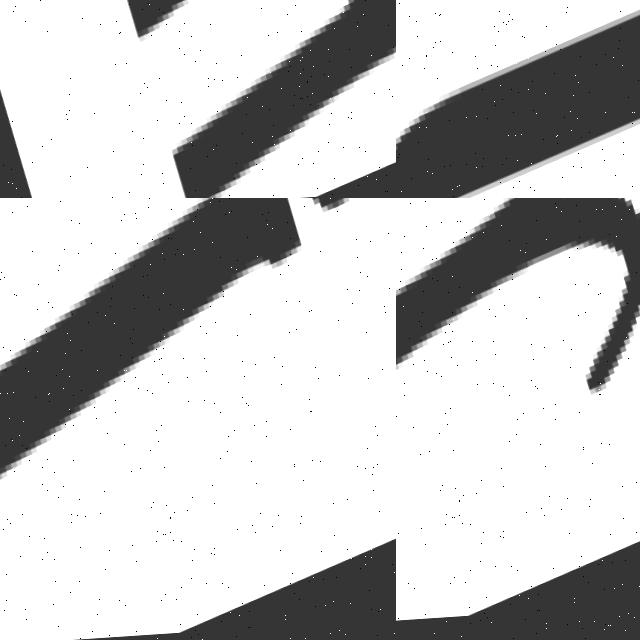J: (0, 198, 396, 616), (396, 0, 640, 198)
M: (0, 0, 396, 198)
X: (396, 198, 640, 640)
